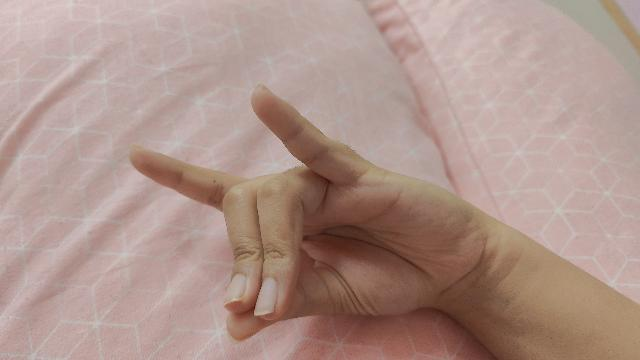sinhamukh: (127, 86, 640, 360)
